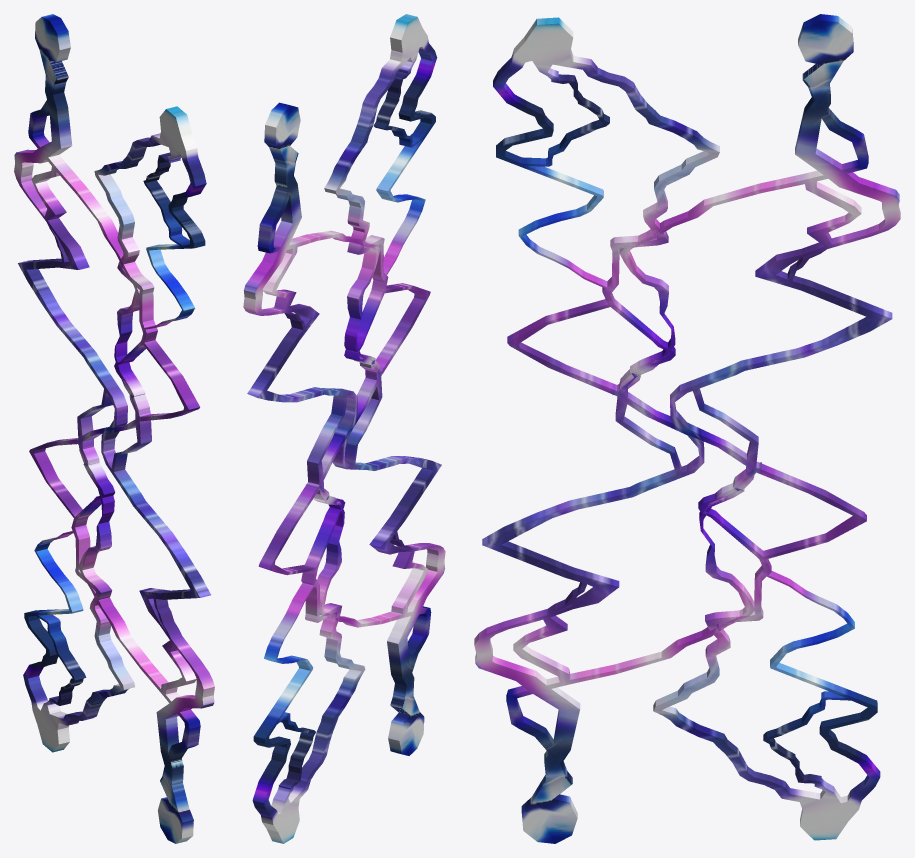
File: Lpointeff.obj
The picture shows the model from 3 angles, left to right: view 1: azimuth 30°, elevation 25°; view 2: azimuth 150°, elevation 25°; view 3: azimuth 270°, elevation 25°; orthographic projection. The views are drawn at different scales.
Visible parts, largest first — view 1: Plane_Plane.001; view 2: Plane_Plane.001; view 3: Plane_Plane.001.
Boxes of the visible parts, box(x1,y1,x2,y2) form: Plane_Plane.001: box(14, 14, 214, 843); Plane_Plane.001: box(243, 14, 445, 843); Plane_Plane.001: box(474, 14, 900, 843).
Bounding box in the file's own units: 0.0126 × 0.7837 × 0.3677.
Materials: 1 (1 with a texture image).
